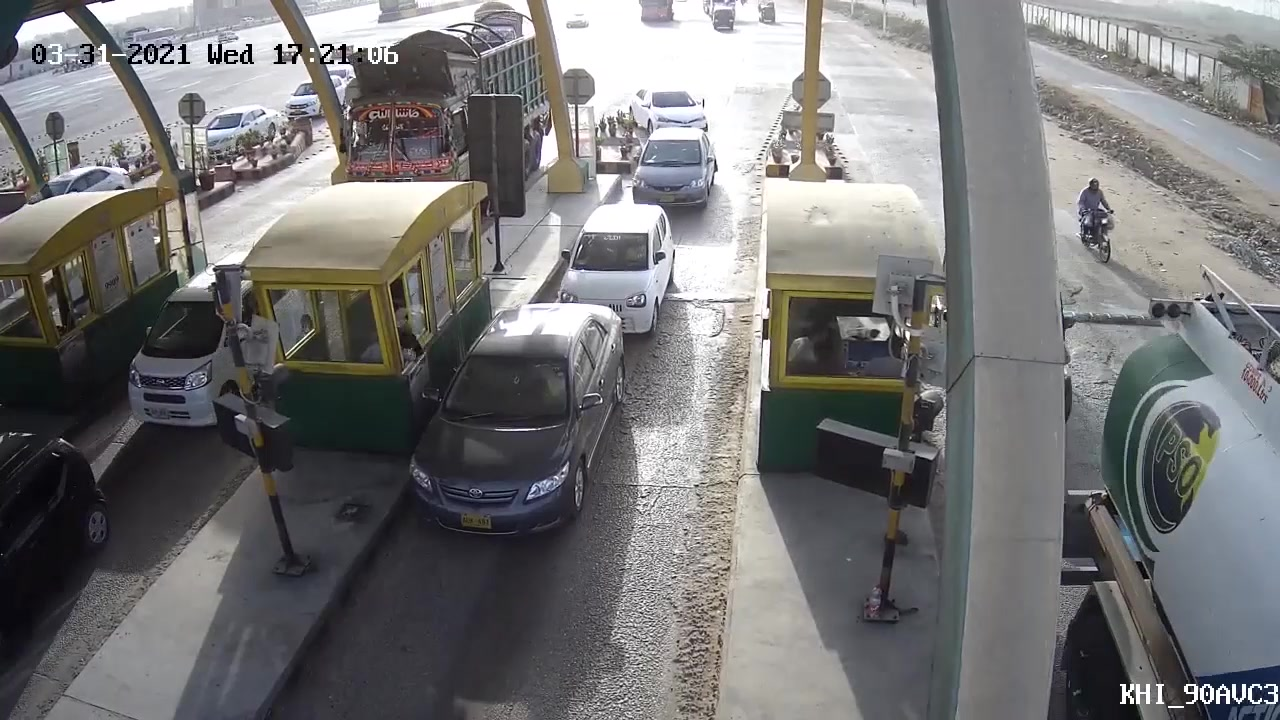F1: (386, 303, 634, 553), (543, 194, 681, 338)
